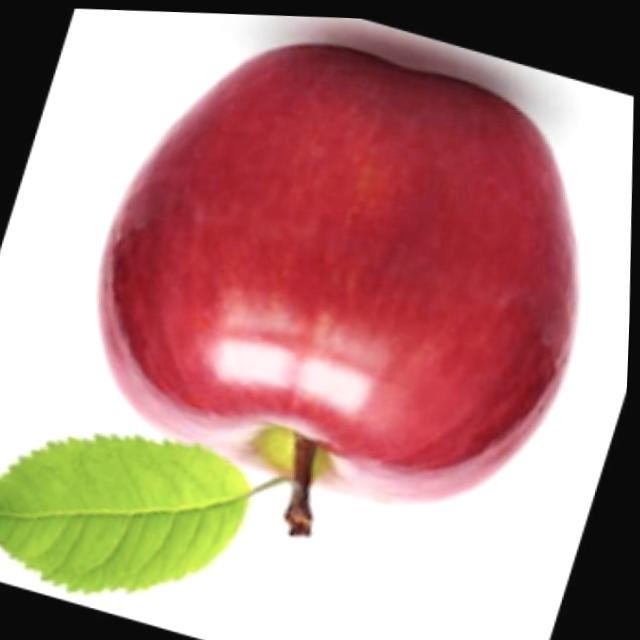Apple: (86, 27, 592, 550)
